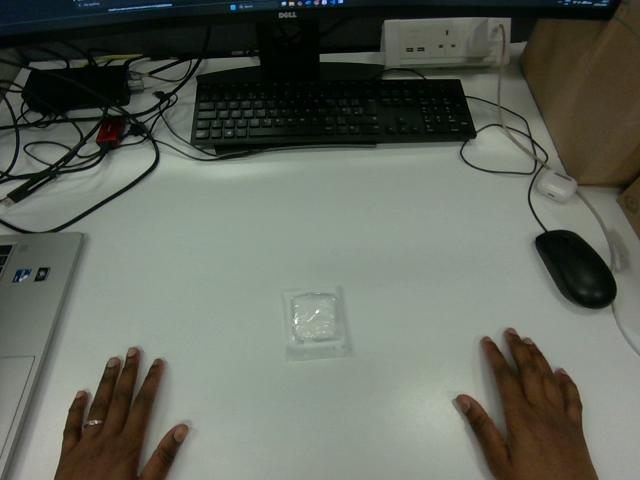gauze: (283, 287, 349, 360)
